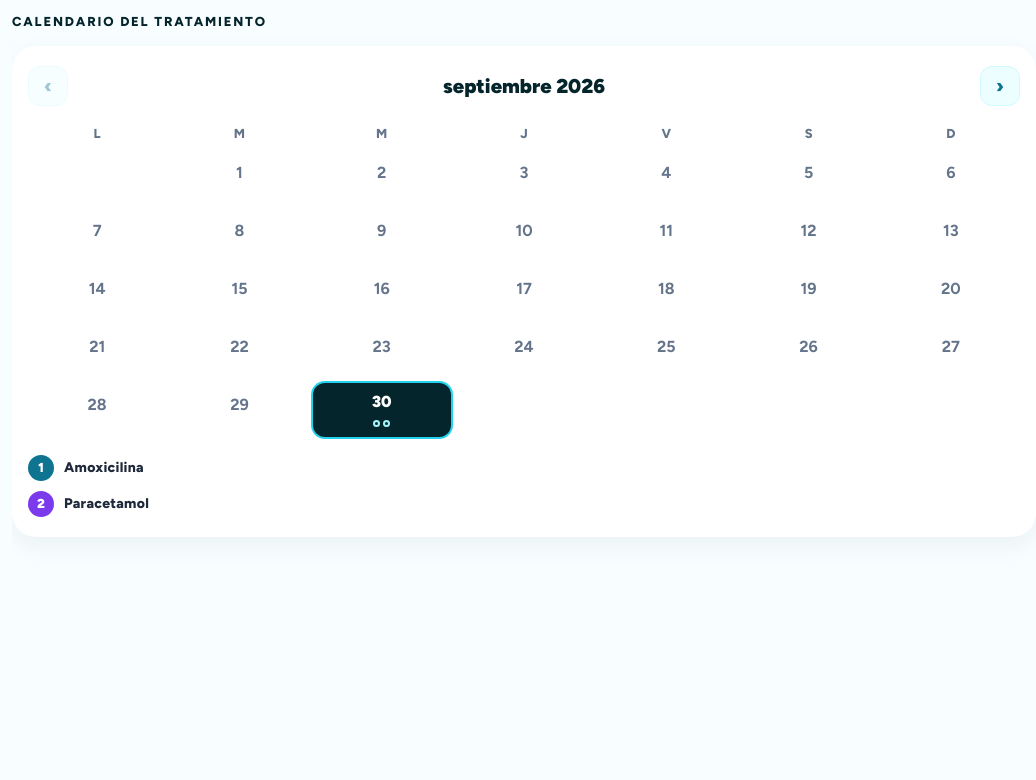
Test: TreatmentCalendar (specs/019) › pages through the months of the treatment and no further
Expected: the button named "Mes anterior" is disabled, x1=26 y1=64 x2=70 y2=108
Click the button named "Mes siguiente": (1000, 86) x1=978 y1=64 x2=1022 y2=108
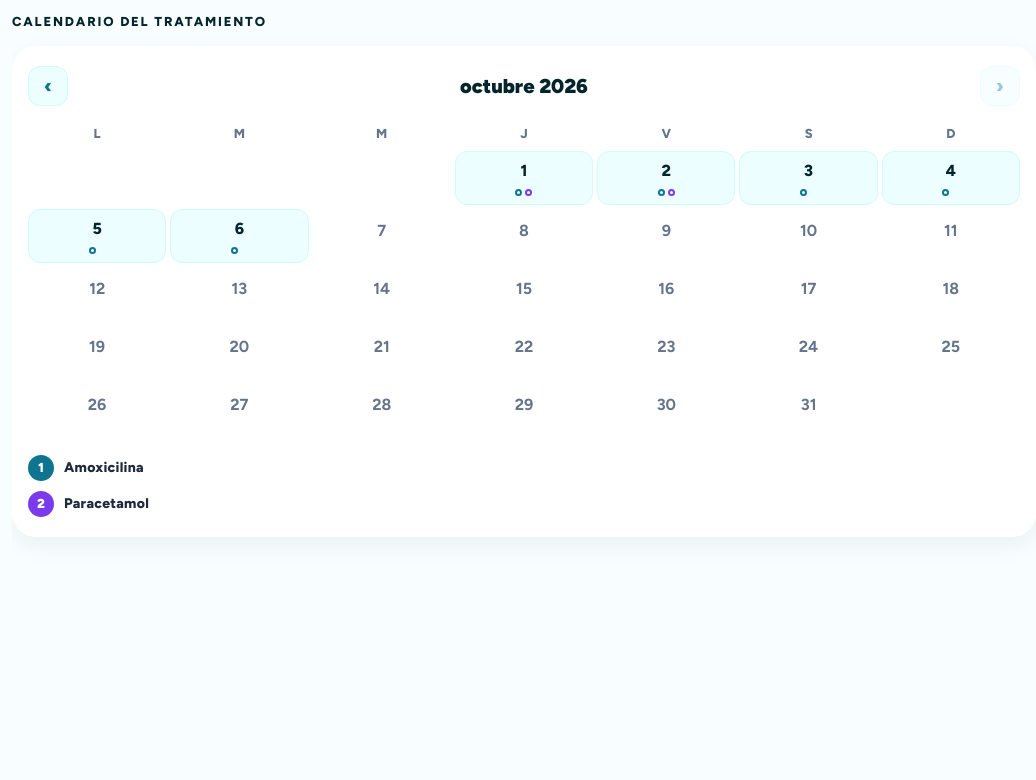
Expected: the text "octubre 2026" is shown, x1=460 y1=72 x2=588 y2=100
Expected: the button named "Mes siguiente" is disabled, x1=978 y1=64 x2=1022 y2=108
Expected: the button named "1 de octubre · 1 Amoxicilina (sin dar), 2 Paracetamol (sin dar)" is shown, x1=455 y1=151 x2=593 y2=205
Click the button named "Mes anterior": (48, 86) x1=26 y1=64 x2=70 y2=108
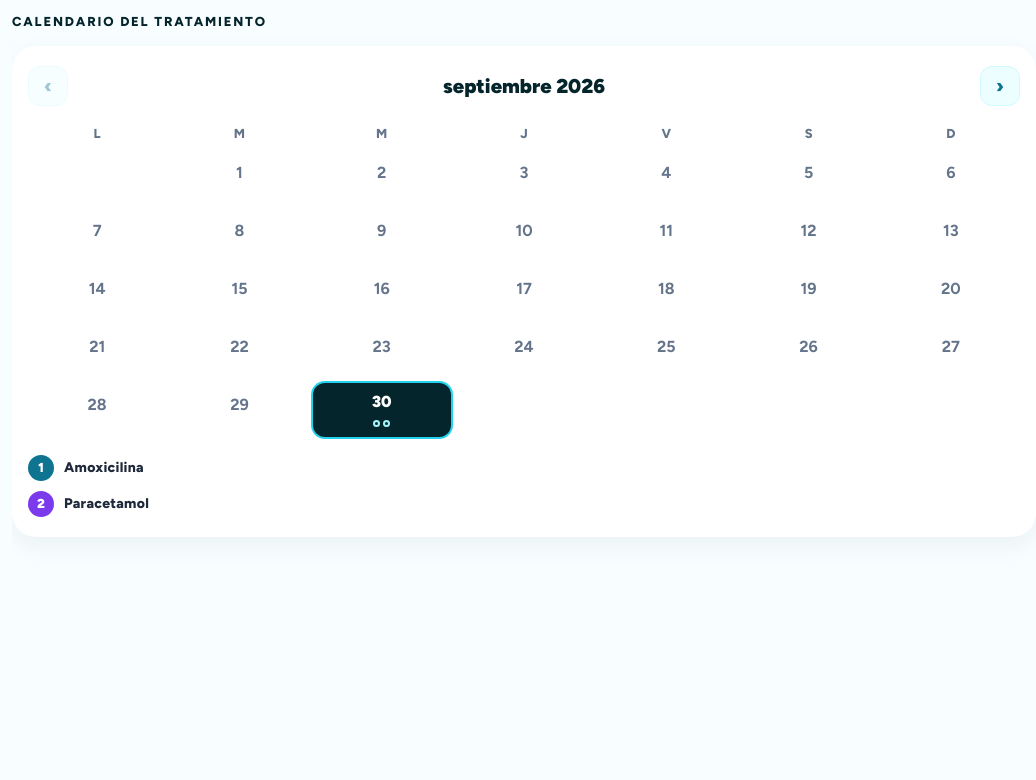
Expected: the text "septiembre 2026" is shown, x1=443 y1=72 x2=605 y2=100
